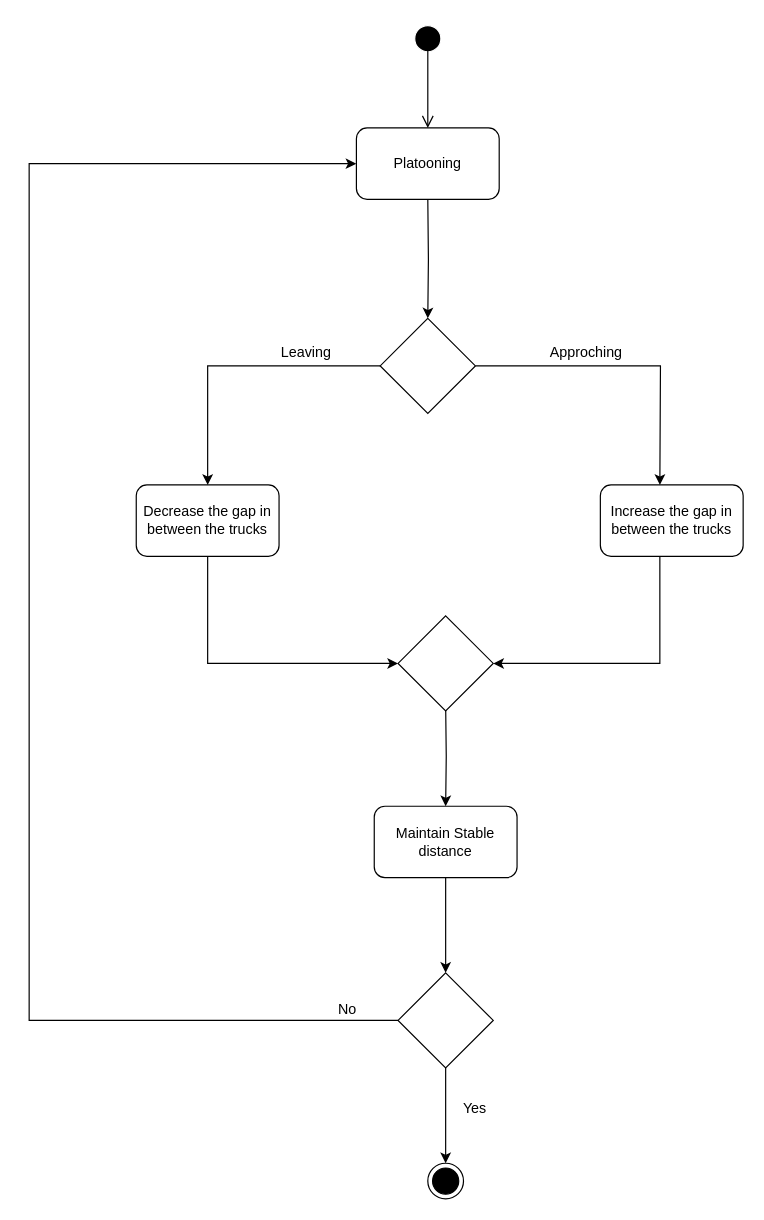
Image size: 764x1220. Some labels were removed from this diagram. The shapes that lost their labels are listed below. From the top down, each one's centre as x and y in pixels, then its label:
At (x=427, y=365): "Vehicle".
At (x=445, y=1020): "Destination reached".
